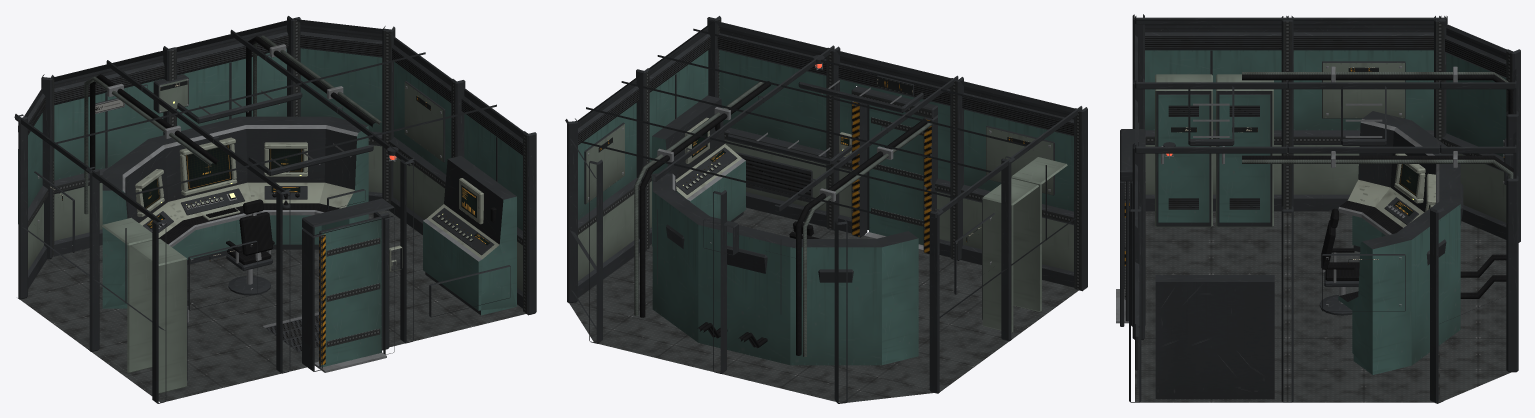
The model's file is ROOM_command.glb.
3 renders of one model, left to right at view 1: azimuth 30°, elevation 25°; view 2: azimuth 150°, elevation 25°; view 3: azimuth 270°, elevation 25°, orthographic. The views are drawn at different scales.
Visible parts, largest first — view 1: WORKSTATION_desk, ST_command_wall_08, DET_command_comms, ST_command_wall_05, ST_command_wall_06, DOOR_command, ST_command_wall_07, ST_command_wall_04, ST_command_wall_02, DET_command_conduits, ST_command_floor_01, ST_command_wall_09 (+21 smaller); view 2: WORKSTATION_desk, ST_command_wall_03, ST_command_wall_01, ST_command_wall_02, ST_command_wall_05, DET_command_conduits, DET_command_comms, DOOR_command, ST_command_wall_04, ST_command_floor_01, ST_command_floor_02, DET_command_locker_02 (+21 smaller); view 3: WORKSTATION_desk, ST_command_wall_10, DET_command_comms, ST_command_wall_11, ST_command_wall_09, DET_command_locker_02, DET_command_locker_01, ST_command_floor_06, ST_command_floor_01, DET_command_conduits, ST_command_floor_09, ST_command_floor_04 (+24 smaller).
Part boxes in pixels (x1,y1,x2,y2): WORKSTATION_desk: (102,116,368,308); ST_command_wall_08: (48,46,176,256); DET_command_comms: (423,156,516,315); ST_command_wall_05: (383,28,465,234); ST_command_wall_06: (290,18,395,210); DOOR_command: (319,216,381,367); ST_command_wall_07: (172,16,300,130); ST_command_wall_04: (458,83,536,315); ST_command_wall_02: (276,189,402,373); DET_command_conduits: (84,35,381,214); ST_command_floor_01: (92,320,283,402); ST_command_wall_09: (18,74,54,288); WORKSTATION_desk: (652,173,918,365); ST_command_wall_03: (707,18,840,230); ST_command_wall_01: (955,79,1087,291); ST_command_wall_02: (831,49,963,260); ST_command_wall_05: (575,68,649,297); DET_command_conduits: (634,81,932,356); DET_command_comms: (652,95,745,246); DOOR_command: (869,105,924,245); ST_command_wall_04: (649,16,721,245); ST_command_floor_01: (918,260,1078,339); ST_command_floor_02: (830,317,1008,391); DET_command_locker_02: (1011,157,1067,312); WORKSTATION_desk: (1338,111,1506,374); ST_command_wall_10: (1288,16,1446,211); DET_command_comms: (1155,275,1274,399); ST_command_wall_11: (1135,16,1293,212); ST_command_wall_09: (1435,19,1520,242); DET_command_locker_02: (1155,74,1212,227); DET_command_locker_01: (1216,74,1273,227); ST_command_floor_06: (1287,338,1439,402); ST_command_floor_01: (1145,211,1287,273); DET_command_conduits: (1242,66,1513,184); ST_command_floor_09: (1440,338,1510,401); ST_command_floor_04: (1287,273,1358,338).
Bounding box in the file's own units: 6.14 × 2.85 × 5.31.
Materials: 8 (5 with a texture image).
